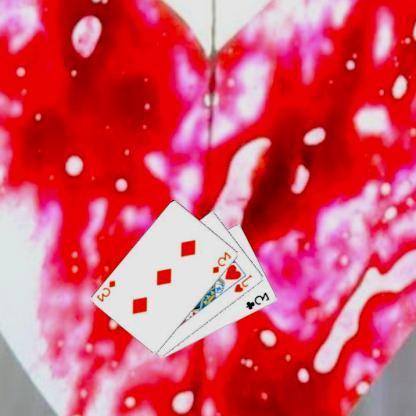3C: (245, 290, 273, 312)
3D: (212, 249, 234, 274), (96, 278, 118, 303)
JH: (234, 272, 255, 294)
